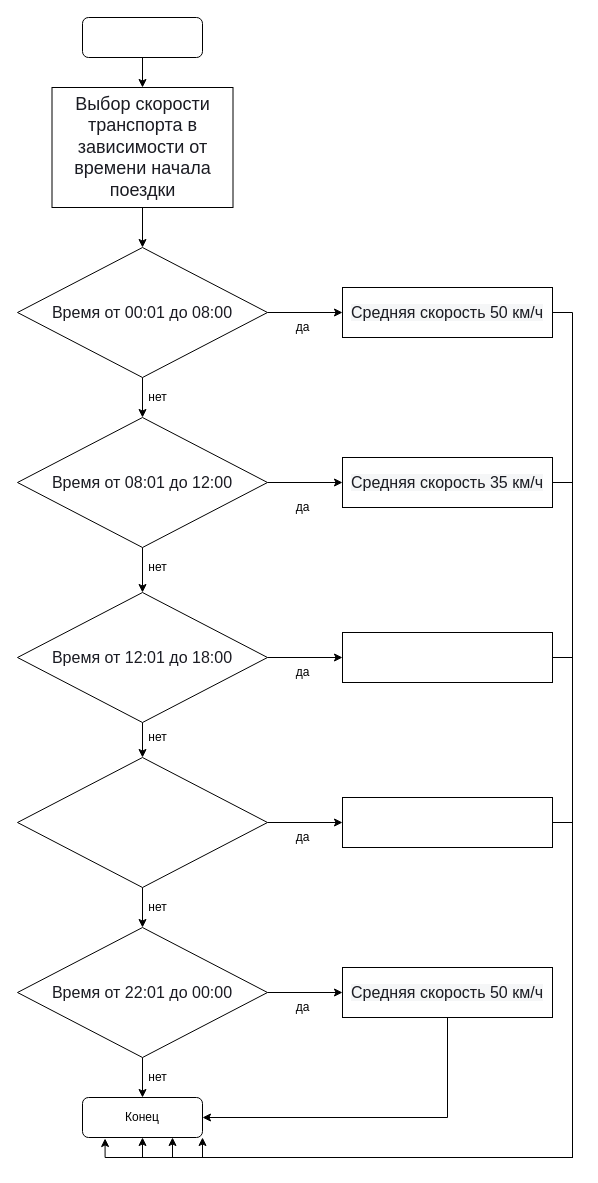
This 598x1183 diagram has some shape labels left out. The box of each missing label's shape, as (x1, y1, x2, y2) in pixels:
Время от 18:01 до 22:00: (16, 756, 268, 888)
Начало: (82, 16, 202, 58)
Средняя скорость 30 км/ч: (342, 796, 552, 848)
Средняя скорость 42 км/ч: (342, 632, 552, 682)
